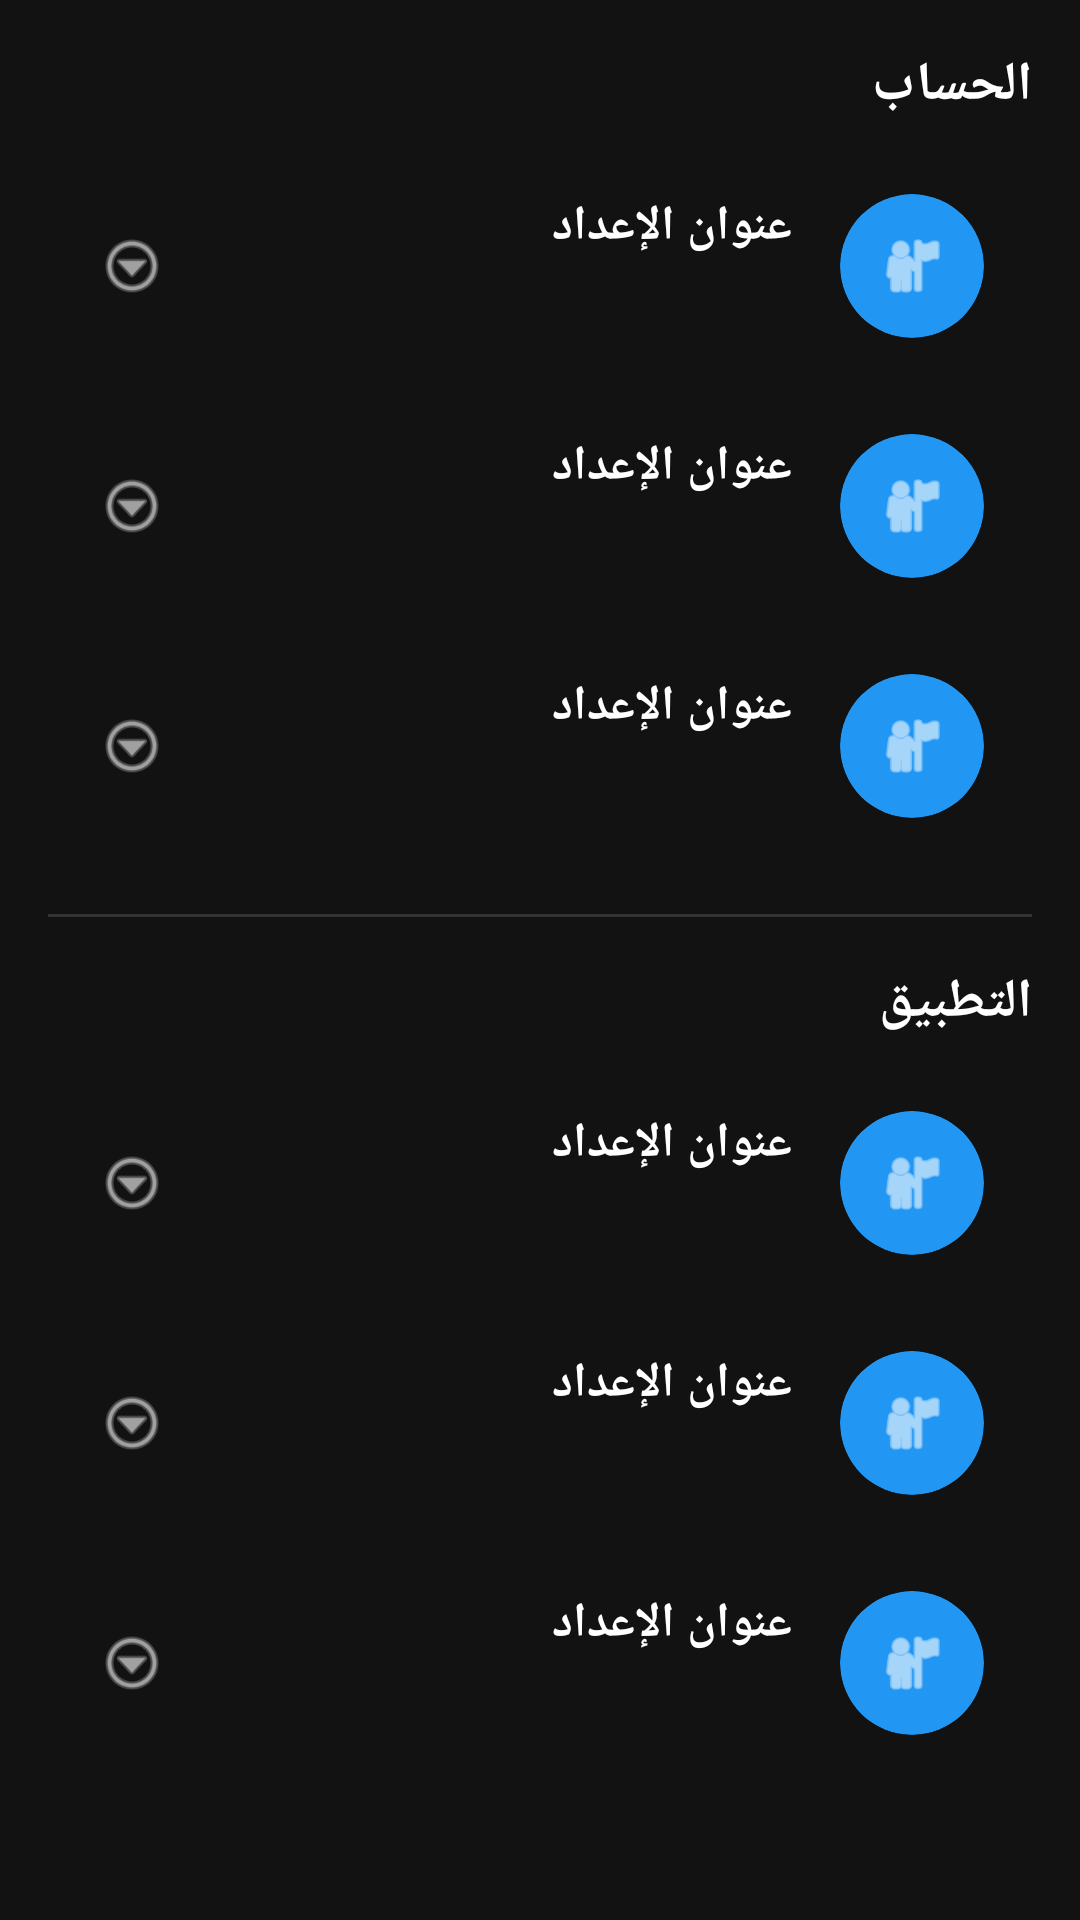

Icon bounding boxes for this 1080 x 1920 phone screenshot, format BBox(x1, y1, x2, y2):
more: BBox(106, 240, 158, 292), BBox(106, 480, 158, 532), BBox(106, 720, 158, 772), BBox(106, 1157, 158, 1209), BBox(106, 1397, 158, 1449), BBox(106, 1637, 158, 1689)
myplaces: BBox(886, 239, 940, 293), BBox(886, 479, 940, 533), BBox(886, 719, 940, 773), BBox(886, 1156, 940, 1210), BBox(886, 1396, 940, 1450), BBox(886, 1636, 940, 1690)
